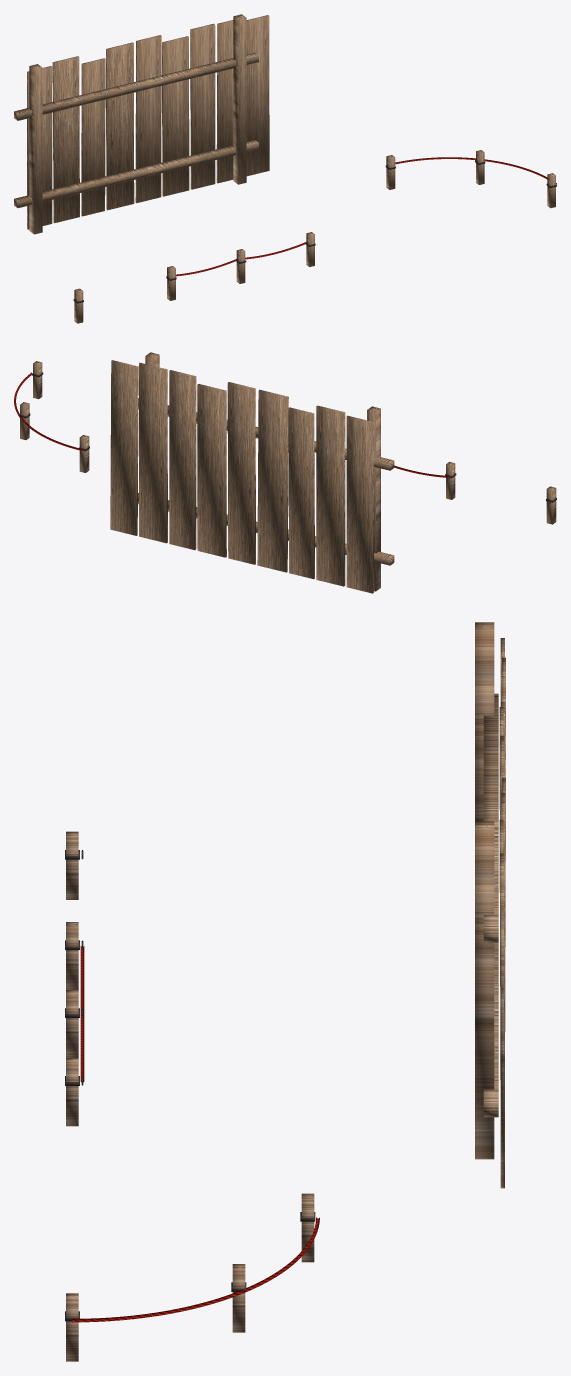
Rendered from fence_boundary.glb.
The picture shows the model from 3 angles, top to bottom: view 1: azimuth 30°, elevation 25°; view 2: azimuth 150°, elevation 25°; view 3: azimuth 270°, elevation 25°; orthographic projection. The views are drawn at different scales.
Parts seen in each view (by area): view 1: Fence_AgedSection_5m, SafetyBarrier_Corner, SafetyBarrier_Straight; view 2: Fence_AgedSection_5m, SafetyBarrier_Corner, SafetyBarrier_Straight, SafetyStake_Single; view 3: Fence_AgedSection_5m, SafetyBarrier_Corner, SafetyBarrier_Straight, SafetyStake_Single.
Part boxes in pixels (x1,y1,x2,y2): Fence_AgedSection_5m: (14, 14, 269, 234); SafetyBarrier_Corner: (385, 150, 556, 208); SafetyBarrier_Straight: (166, 232, 315, 300); Fence_AgedSection_5m: (110, 352, 394, 593); SafetyBarrier_Corner: (14, 361, 89, 472); SafetyBarrier_Straight: (394, 462, 456, 499); SafetyStake_Single: (546, 486, 556, 524); Fence_AgedSection_5m: (475, 622, 505, 1188); SafetyBarrier_Corner: (65, 1193, 319, 1361); SafetyBarrier_Straight: (65, 922, 84, 1126); SafetyStake_Single: (65, 831, 83, 899).
Size of the model in its own units: 10.38 by 3.4 by 4.12.
Materials: 3 (2 with a texture image).
